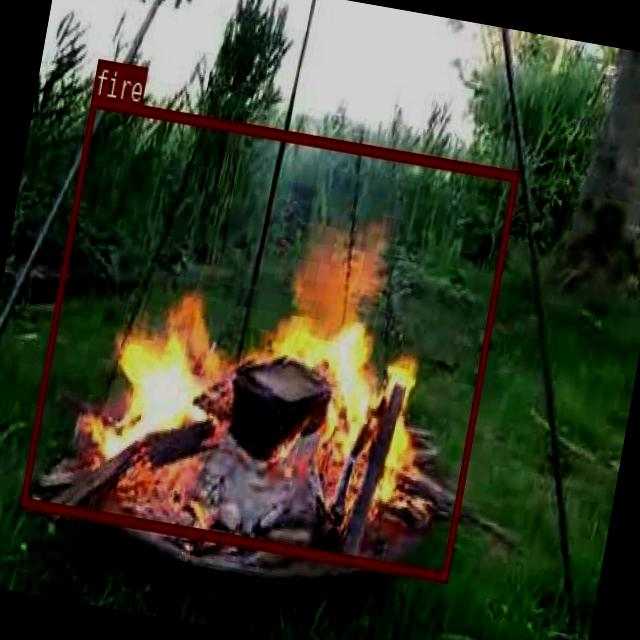fire: (19, 95, 518, 580)
